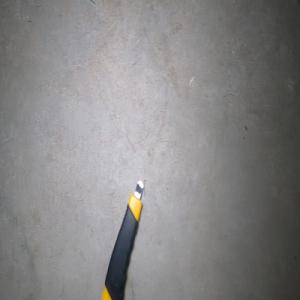Cutter: (101, 179, 145, 300)
